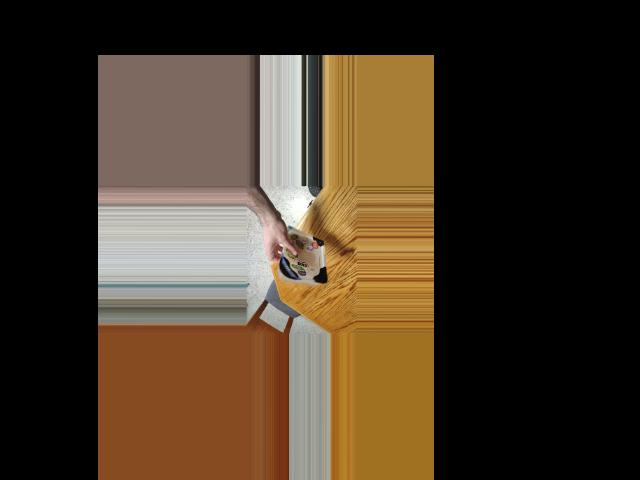cheese: (276, 237, 324, 288)
